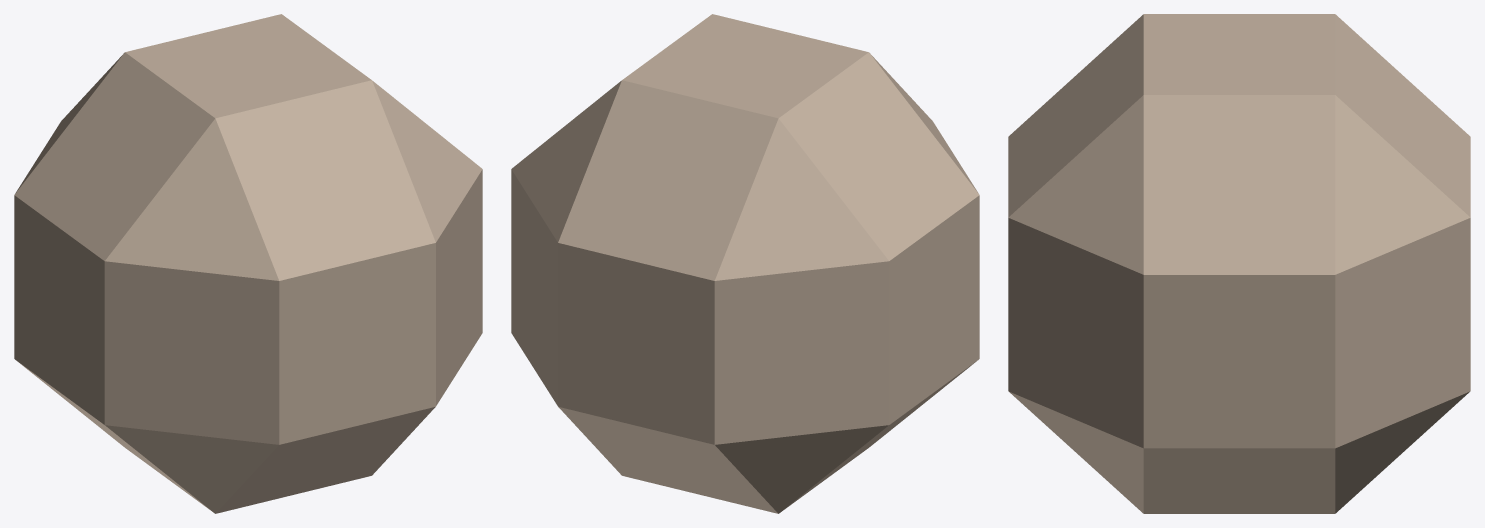
The model's file is Beach_Prop_Coconut_1.glb.
3 renders of one model, left to right at view 1: azimuth 30°, elevation 25°; view 2: azimuth 150°, elevation 25°; view 3: azimuth 270°, elevation 25°, orthographic. The views are drawn at different scales.
Visible parts, largest first — view 1: Beach_Prop_Coconut_1; view 2: Beach_Prop_Coconut_1; view 3: Beach_Prop_Coconut_1.
Part boxes in pixels (x1=…): Beach_Prop_Coconut_1: x1=14, y1=14, x2=482, y2=513; Beach_Prop_Coconut_1: x1=511, y1=14, x2=979, y2=513; Beach_Prop_Coconut_1: x1=1008, y1=14, x2=1470, y2=513.
Bounding box in the file's own units: 0.35 × 0.35 × 0.35.
